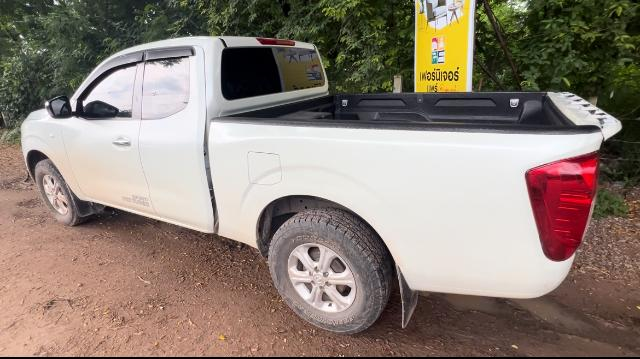pickup-truck: (17, 31, 625, 336)
